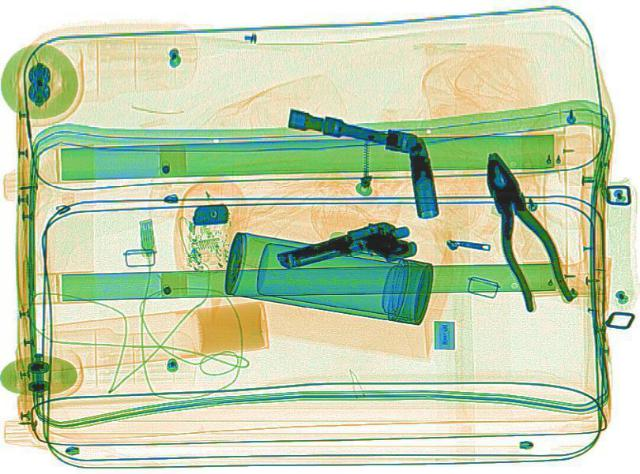Gun: (271, 210, 424, 292)
Pliers: (464, 147, 576, 311)
